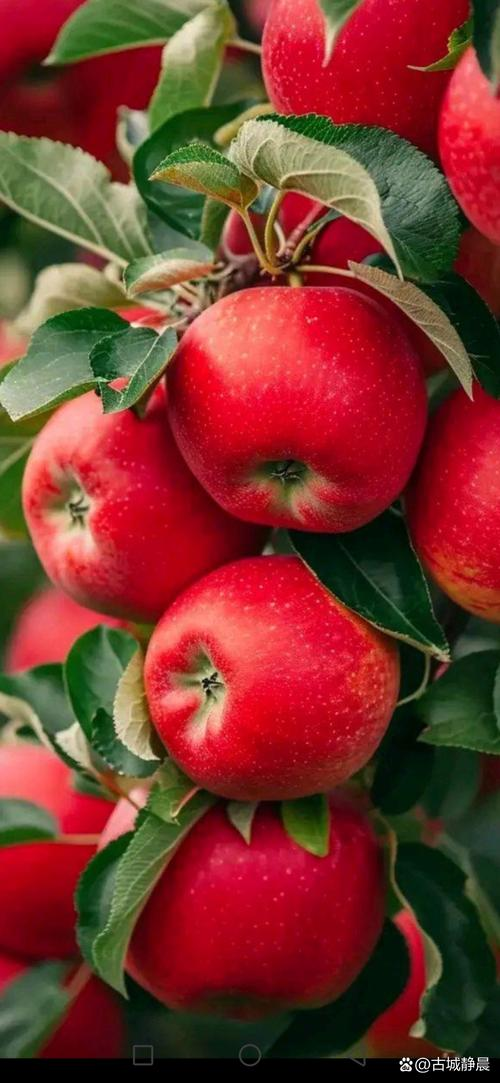ripe: (69, 732, 406, 1019), (152, 276, 445, 544), (122, 550, 412, 798), (11, 356, 260, 611)
